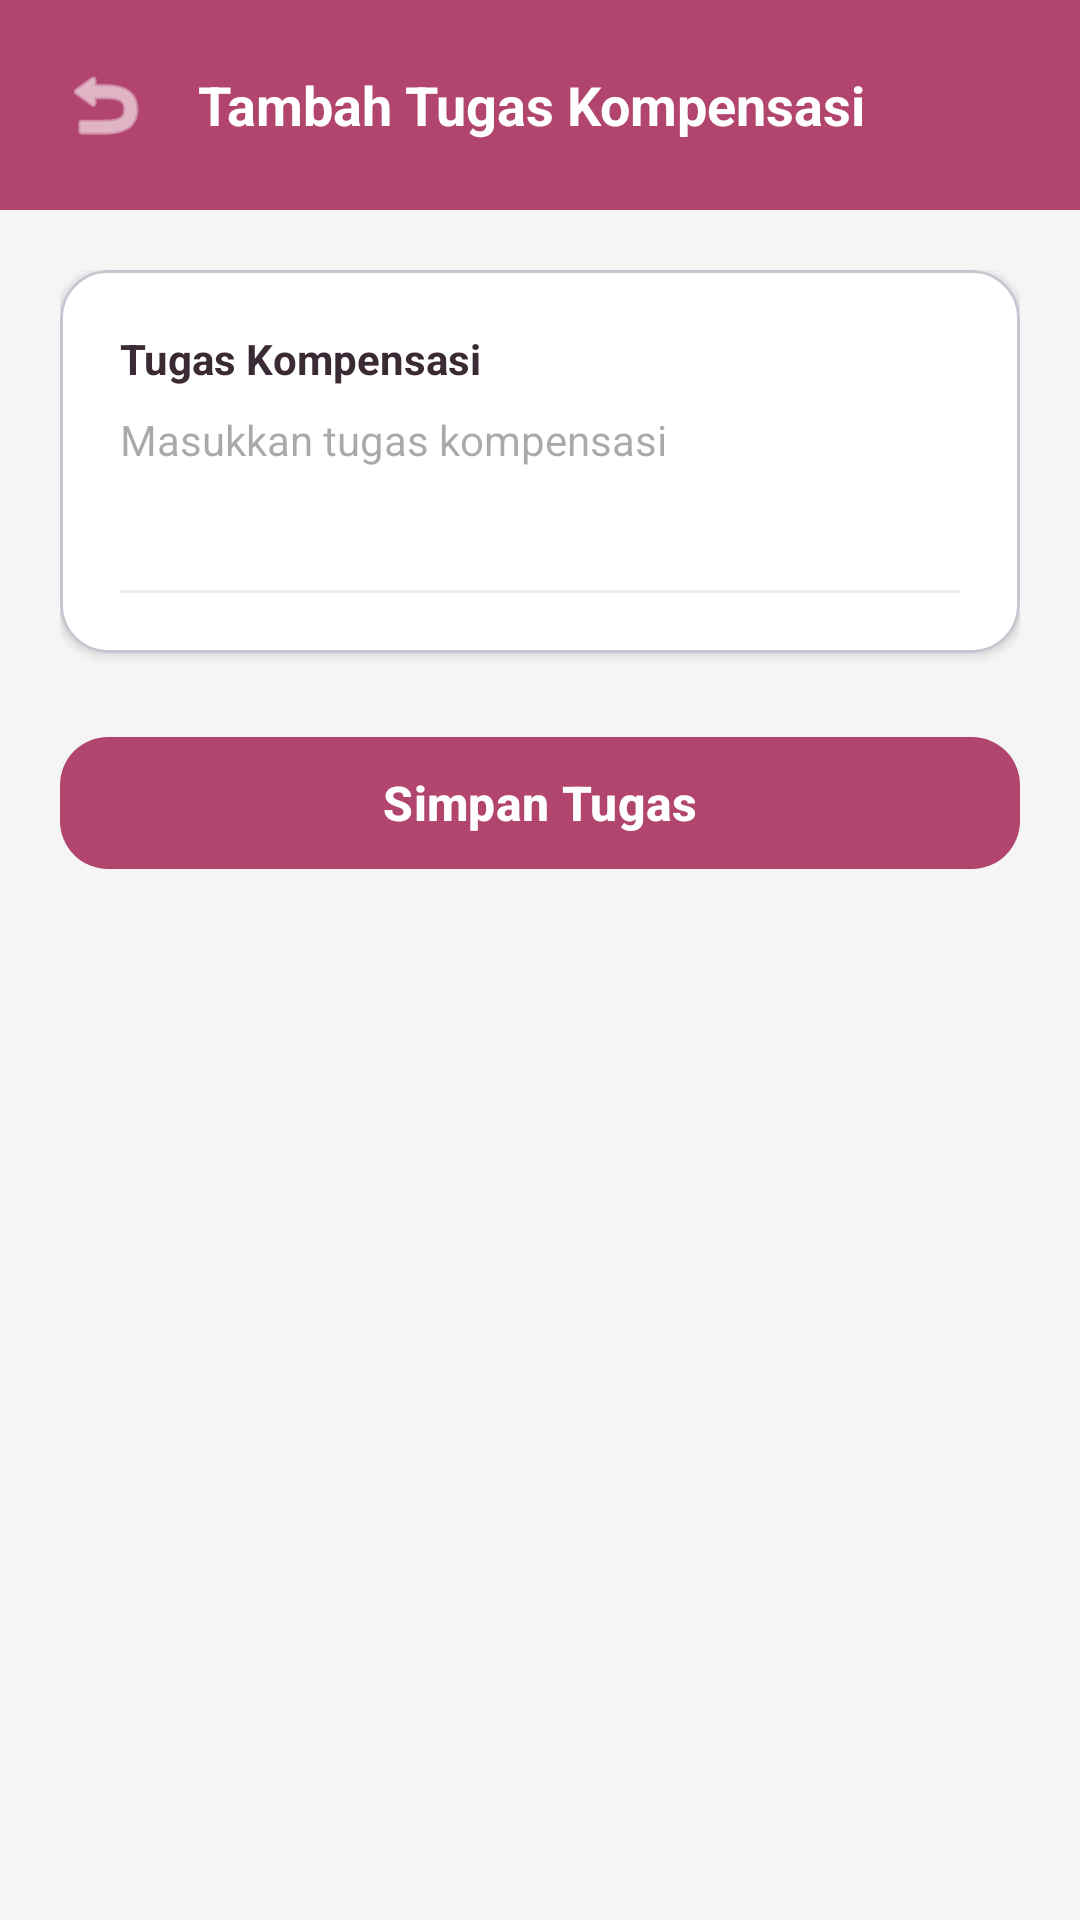

Icons on this 1080*1920 Android screen, each with the point to tap as point (x, y):
revert: point (106, 105)
